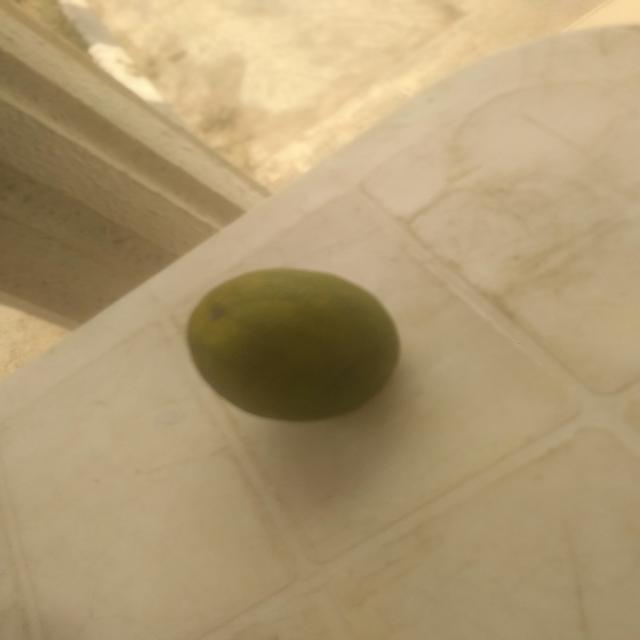Unripe: (141, 237, 476, 461)
